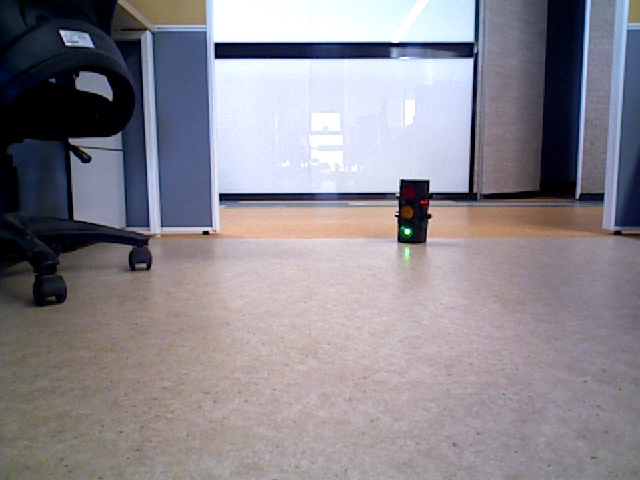green: (400, 182, 424, 238)
